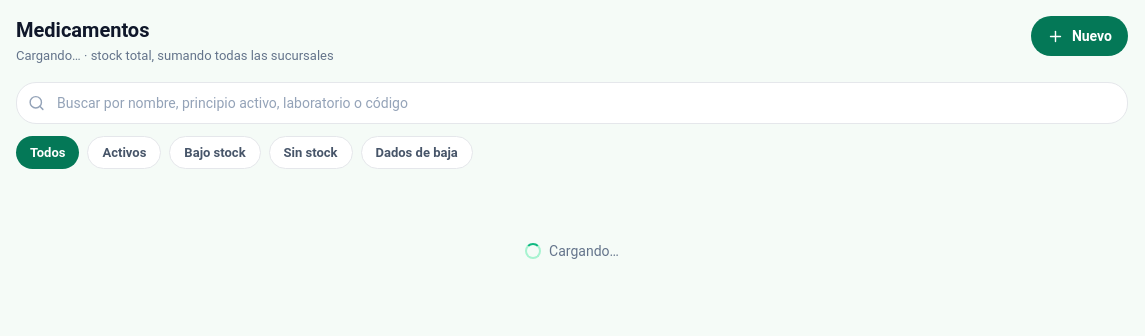
Test: farmacia: lo propio del rubro sigue en pie › entre dos filtros del catálogo tampoco deja la lista anterior mientras carga
Click the button "Bajo stock".
click(215, 152)  # box [169,136,261,169]
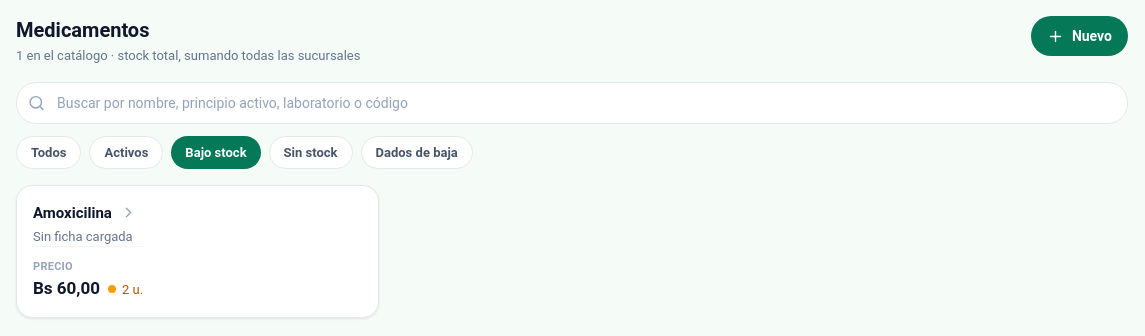
Now the heading "Amoxicilina" is shown, box [33,202,112,224]
Click the button "Dados de baja".
click(417, 152)  # box [360,136,473,169]
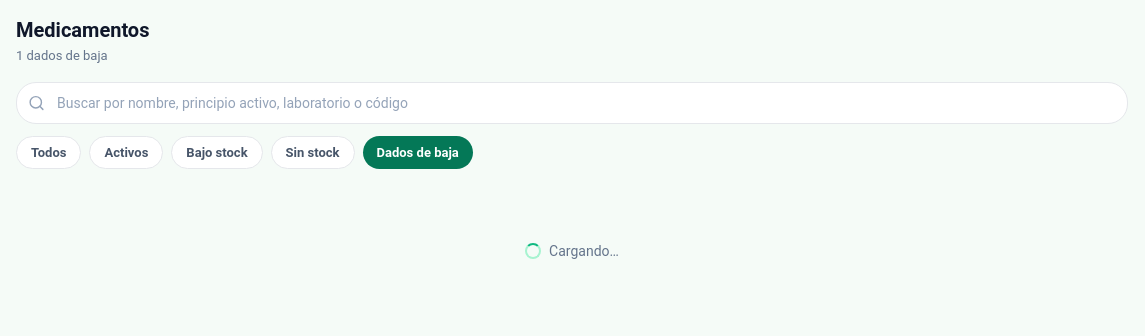
Now the text "Cargando…" is shown, box [525,243,619,259]
Now the button "Amoxicilina" is gone
